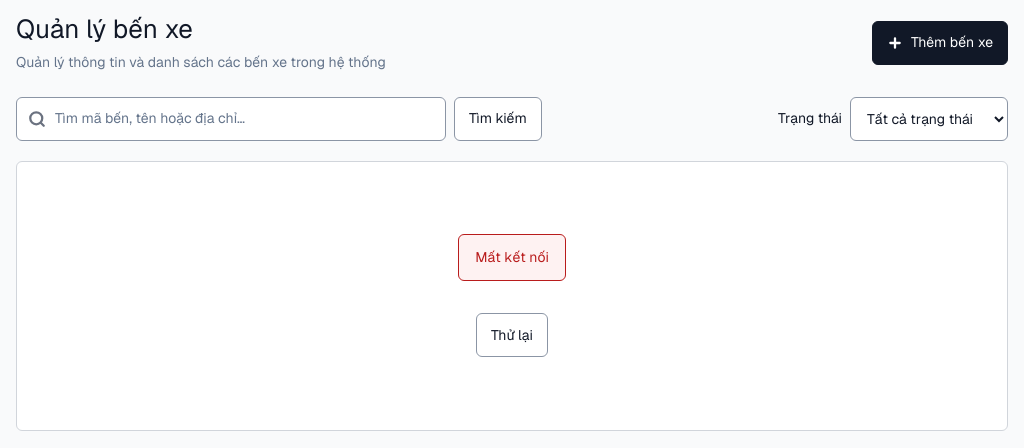
Scenario: Stations user flows › AC-6 recovers from a failed list request after retry
expect the message reads "Mất kết nối": met, box x1=475 y1=248 x2=549 y2=266
Click the button "Thử lại" at coordinates (512, 335), box x1=476 y1=313 x2=548 y2=357
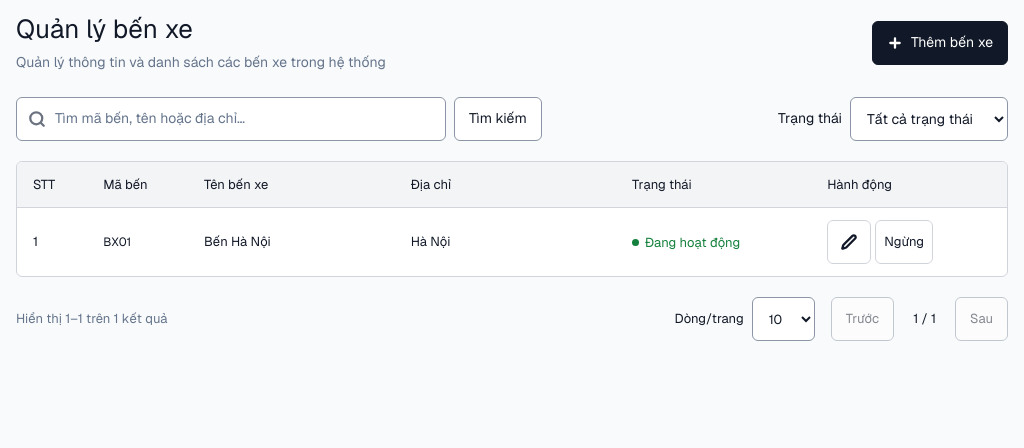
expect the table shows "Bến Hà Nội": met, box x1=204 y1=233 x2=271 y2=250
